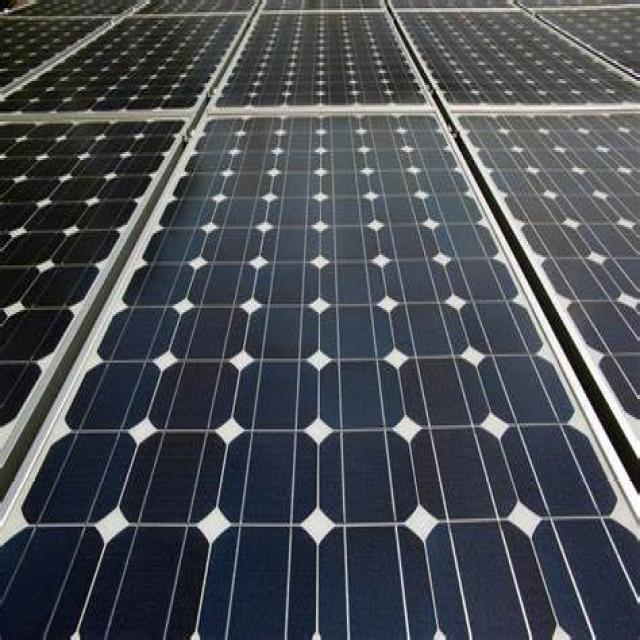clean-solar-panel: (1, 0, 640, 638)
